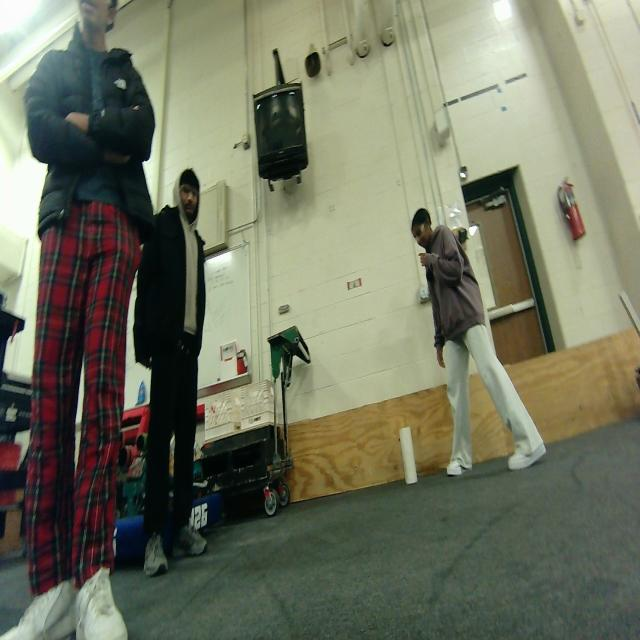coral: (396, 418, 426, 496)
